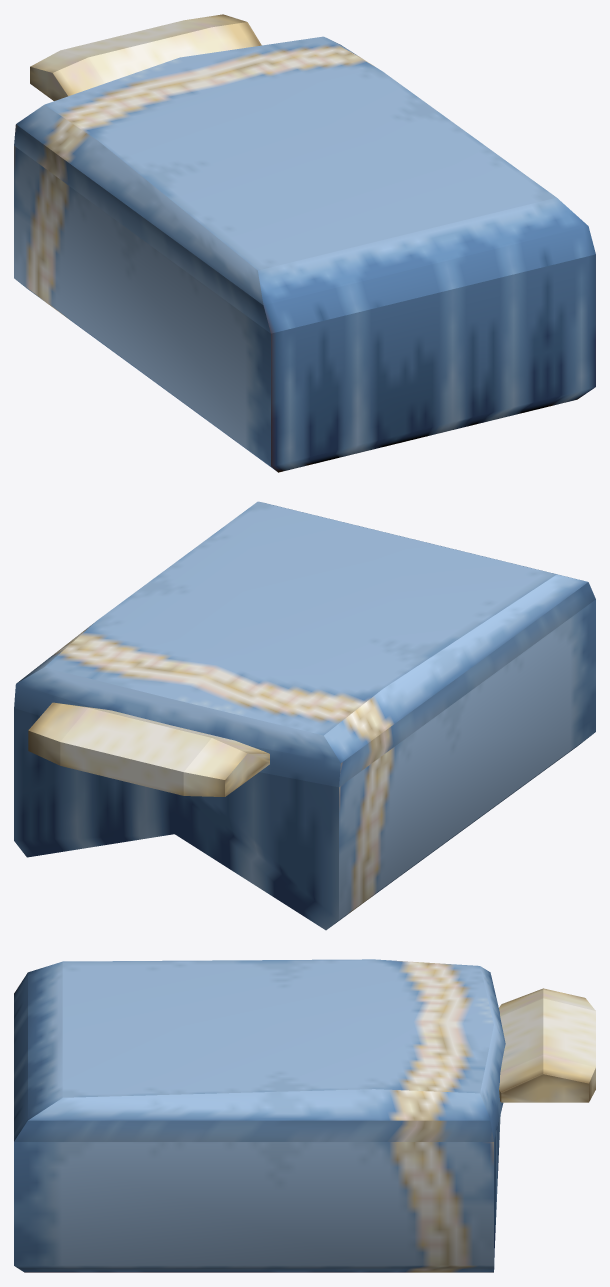
Rendered from Inside_Poly_Bed_01_Blanket_01.obj.
3 views of the same model, one above another, from view 1: azimuth 30°, elevation 25°; view 2: azimuth 150°, elevation 25°; view 3: azimuth 270°, elevation 25° (orthographic). The views are drawn at different scales.
Visible parts, largest first — view 1: Cube.003, Cube.004; view 2: Cube.003, Cube.004; view 3: Cube.003, Cube.004.
Boxes of the visible parts, x1,y1,x2,y2 form: Cube.003: (14,36,595,472); Cube.004: (30,14,261,100); Cube.003: (14,501,595,930); Cube.004: (28,702,269,796); Cube.003: (14,959,505,1272); Cube.004: (499,988,595,1102).
Bounding box in the file's own units: 1 × 0.5819 × 1.66.
1 material, 1 textured.
